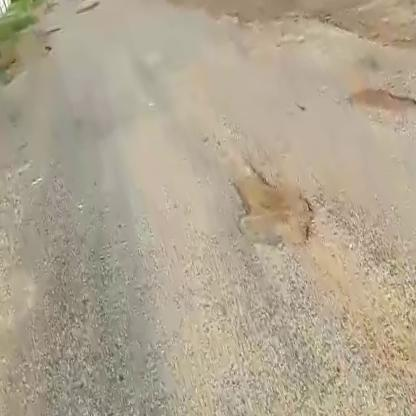pothole: (226, 160, 323, 262), (345, 69, 416, 134)
